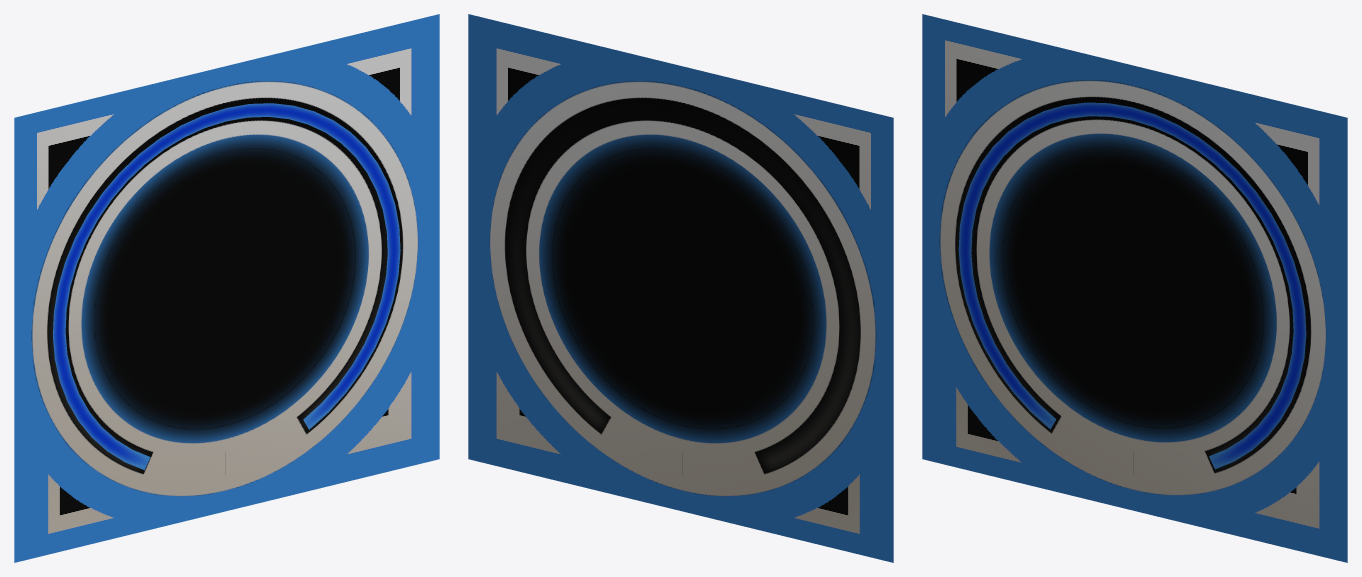
File: 建筑血槽.FBX
3 renders of one model, left to right at view 1: azimuth 30°, elevation 25°; view 2: azimuth 150°, elevation 25°; view 3: azimuth 330°, elevation 25°, orthographic.
Visible parts, largest first — view 1: Plane01, Box01; view 2: Plane01; view 3: Plane01, Box01.
Boxes of the visible parts, x1,y1,x2,y2 form: Plane01: (14, 14, 439, 562); Box01: (53, 103, 400, 470); Plane01: (468, 14, 893, 562); Plane01: (922, 14, 1347, 562); Box01: (958, 102, 1306, 469).
Bounding box in the file's own units: 100 × 100 × 0.444.
